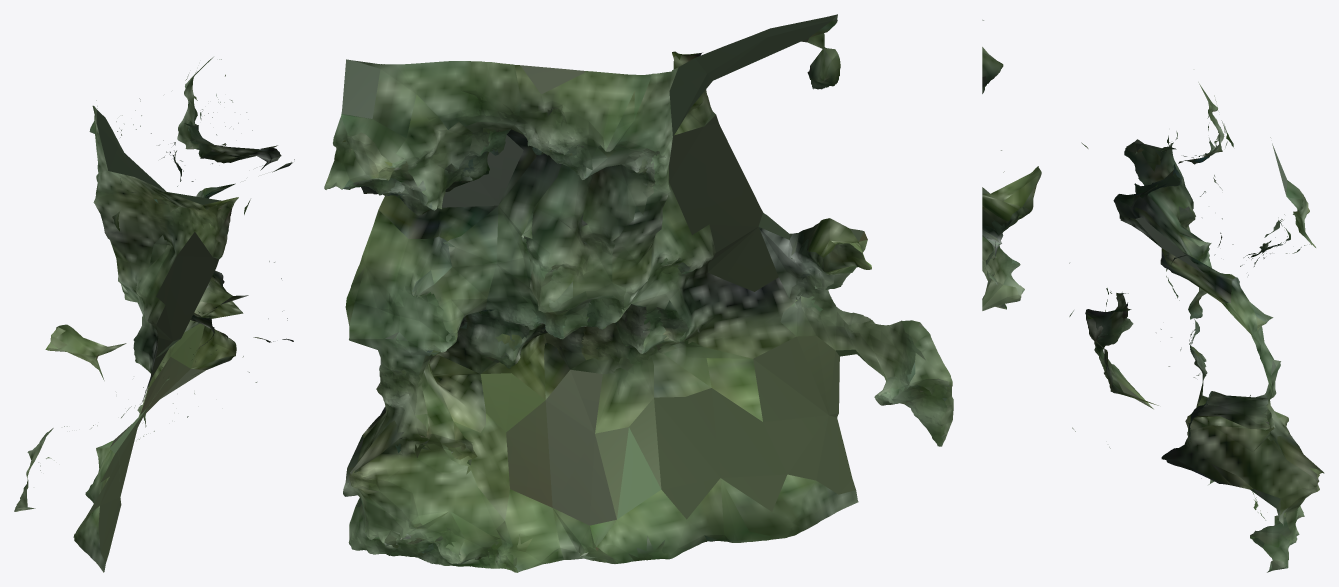
3 renders of one model, left to right at view 1: azimuth 30°, elevation 25°; view 2: azimuth 150°, elevation 25°; view 3: azimuth 270°, elevation 25°, orthographic. The views are drawn at different scales.
Size of the model in its own units: 0.9387 by 0.983 by 0.7233.
Materials: 1 (1 with a texture image).
